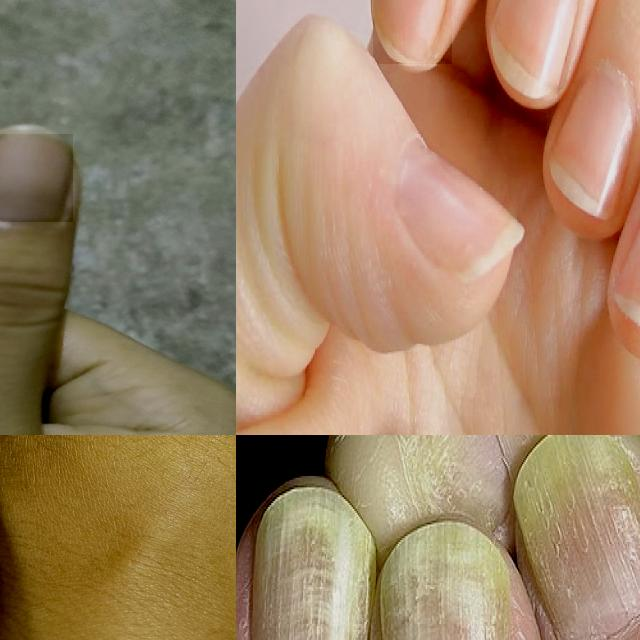diabetes: (514, 435, 640, 640), (248, 485, 377, 640), (378, 519, 512, 640), (397, 435, 511, 537)
sehat: (394, 144, 525, 286), (550, 67, 634, 218), (489, 0, 579, 100), (0, 134, 73, 222), (373, 0, 447, 64), (615, 226, 640, 326)
